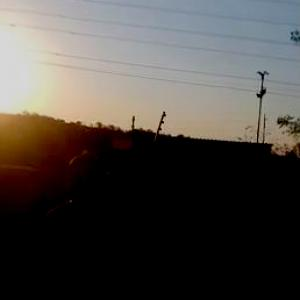follow: (28, 148, 127, 299)
